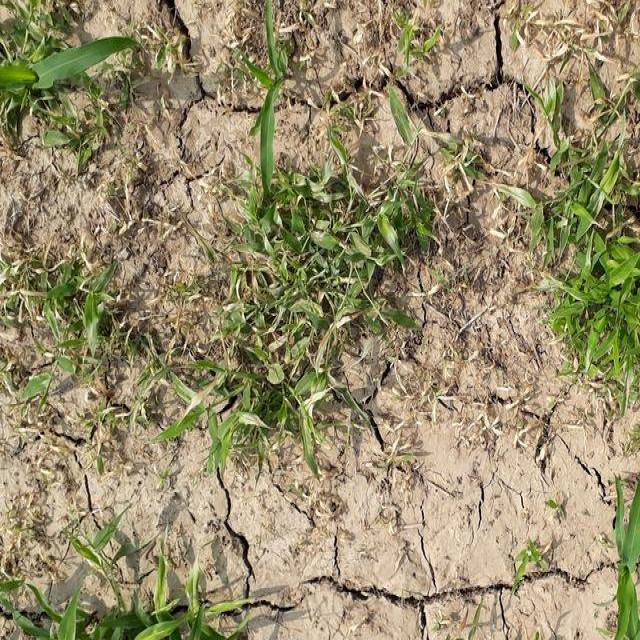weed: (195, 168, 448, 444), (555, 137, 640, 388), (0, 236, 114, 377), (0, 0, 121, 127)
